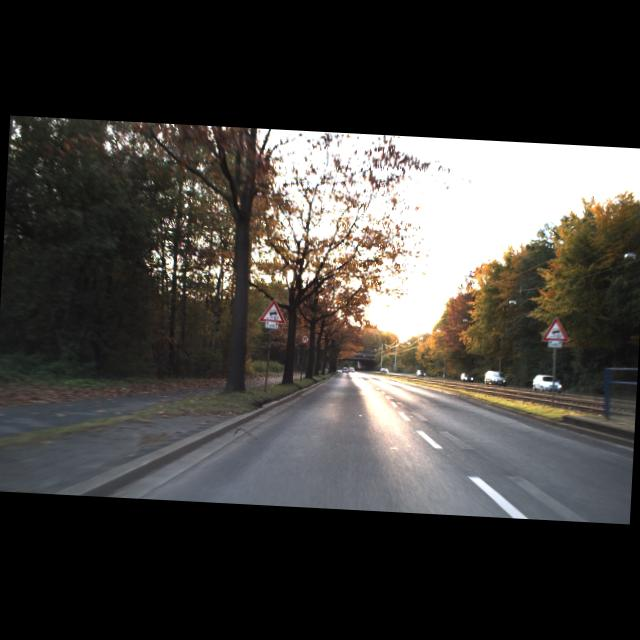danger: (542, 317, 572, 342), (260, 299, 288, 324)
prohibitory: (300, 333, 310, 345)
